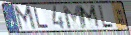4: (51, 5, 66, 31)
L: (97, 4, 115, 30), (33, 6, 50, 30)
M: (13, 5, 38, 32), (61, 5, 87, 30), (77, 4, 102, 30)
